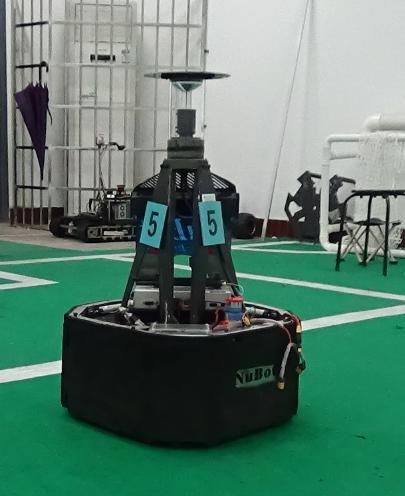robot: (52, 62, 304, 458)
